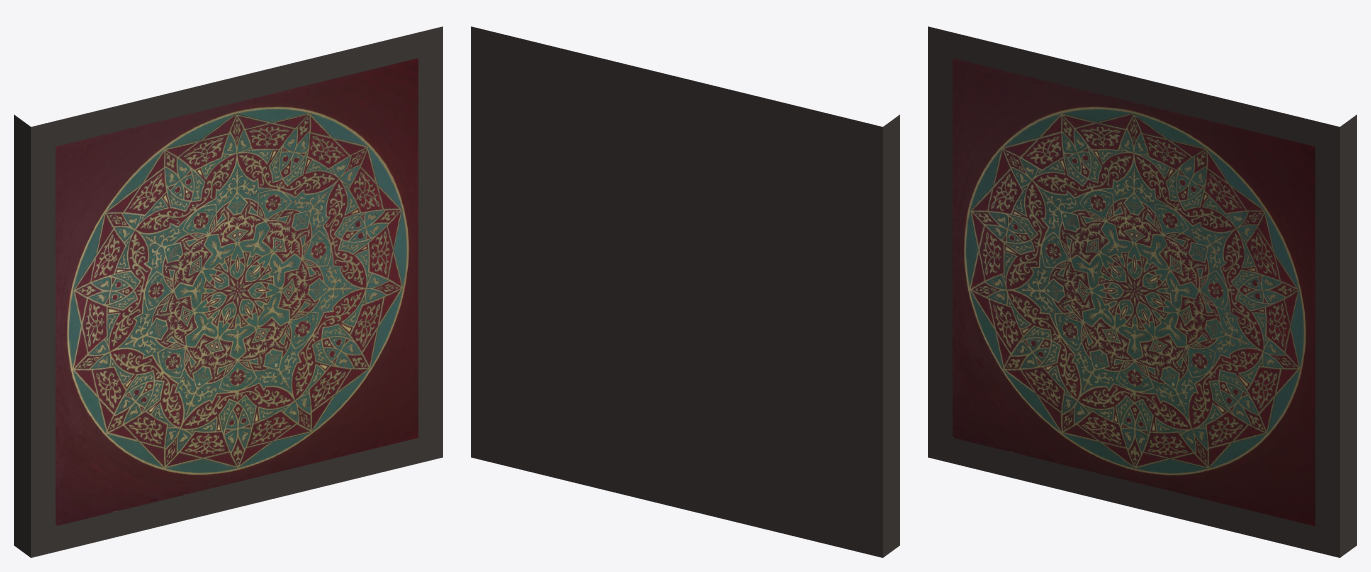
File: orchis-7-v2.glb
3 views of the same model, side by side, from view 1: azimuth 30°, elevation 25°; view 2: azimuth 150°, elevation 25°; view 3: azimuth 330°, elevation 25° (orthographic).
Visible parts, largest first — view 1: FramedPrint; view 2: FramedPrint; view 3: FramedPrint.
Part boxes in pixels (x1,y1,x2,y2): FramedPrint: [14, 26, 442, 557]; FramedPrint: [471, 26, 899, 557]; FramedPrint: [928, 26, 1356, 557].
Size of the model in its own units: 0.42 by 0.42 by 0.03.
2 materials, 1 textured.
